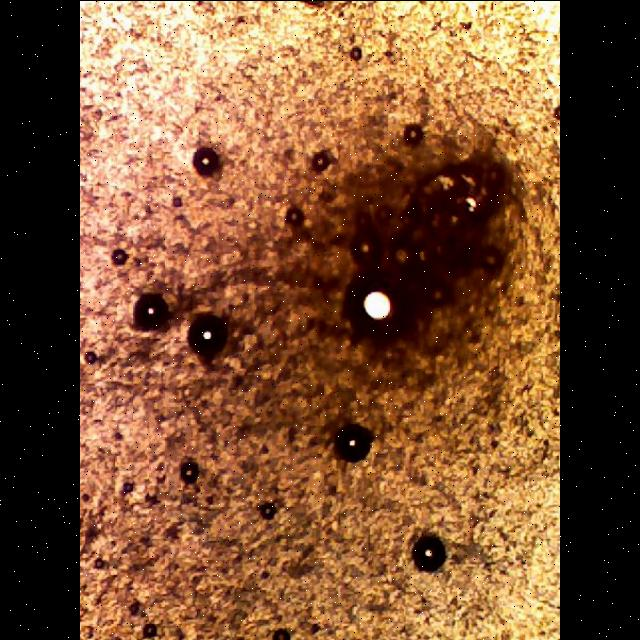microbeads: (328, 414, 378, 466), (187, 308, 230, 359), (408, 530, 452, 574), (130, 287, 170, 333), (190, 144, 223, 180), (292, 0, 336, 12)
